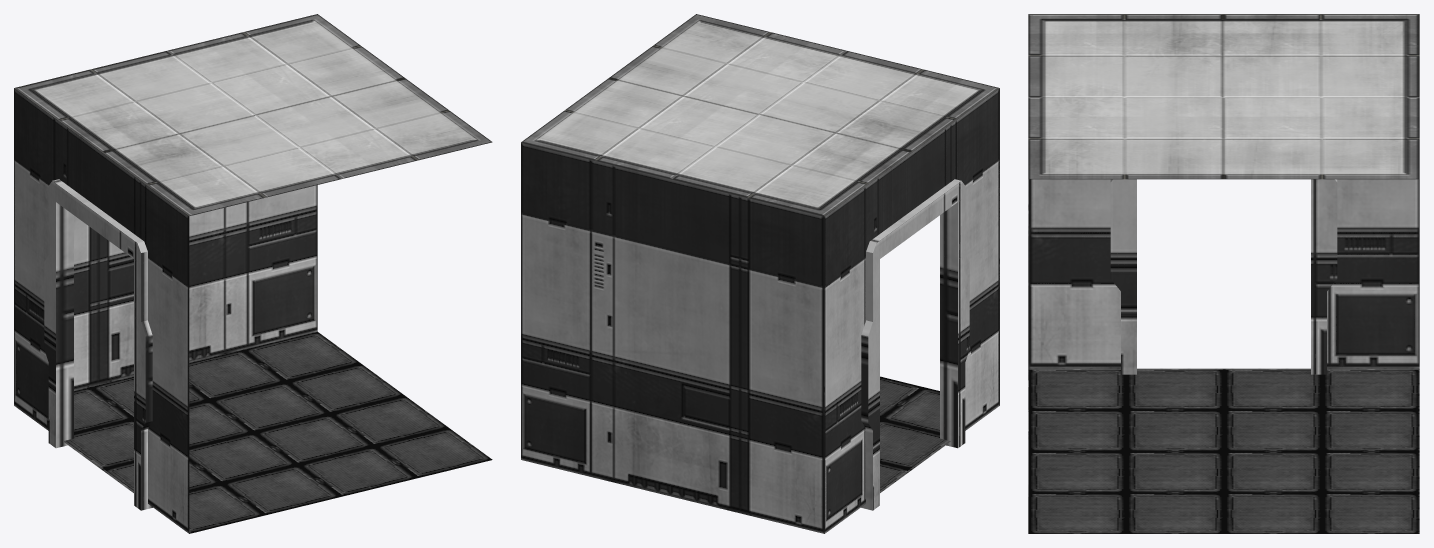
File: CorridorCorner4.fbx
The picture shows the model from 3 angles, left to right: view 1: azimuth 30°, elevation 25°; view 2: azimuth 150°, elevation 25°; view 3: azimuth 270°, elevation 25°; orthographic projection. The views are drawn at different scales.
Visible parts, largest first — view 1: CorridorCorner4; view 2: CorridorCorner4; view 3: CorridorCorner4.
Boxes of the visible parts, box(x1,y1,x2,y2) form: CorridorCorner4: box(14, 14, 492, 533); CorridorCorner4: box(521, 14, 999, 533); CorridorCorner4: box(1028, 14, 1419, 533).
Size of the model in its own units: 5.11 by 5.09 by 5.
